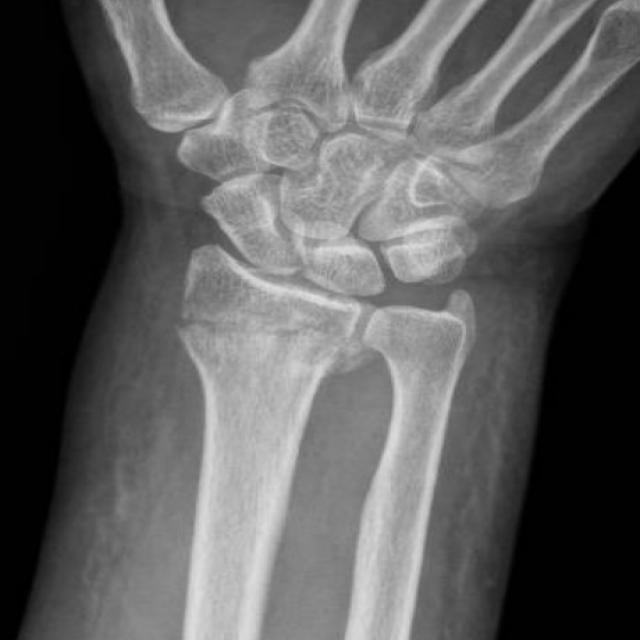bone: (170, 240, 381, 501)
